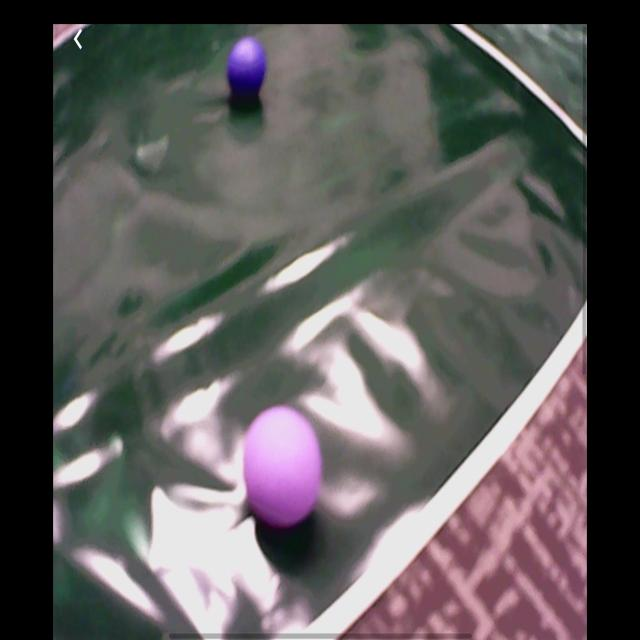ball: (246, 406, 325, 530), (229, 34, 268, 93)
